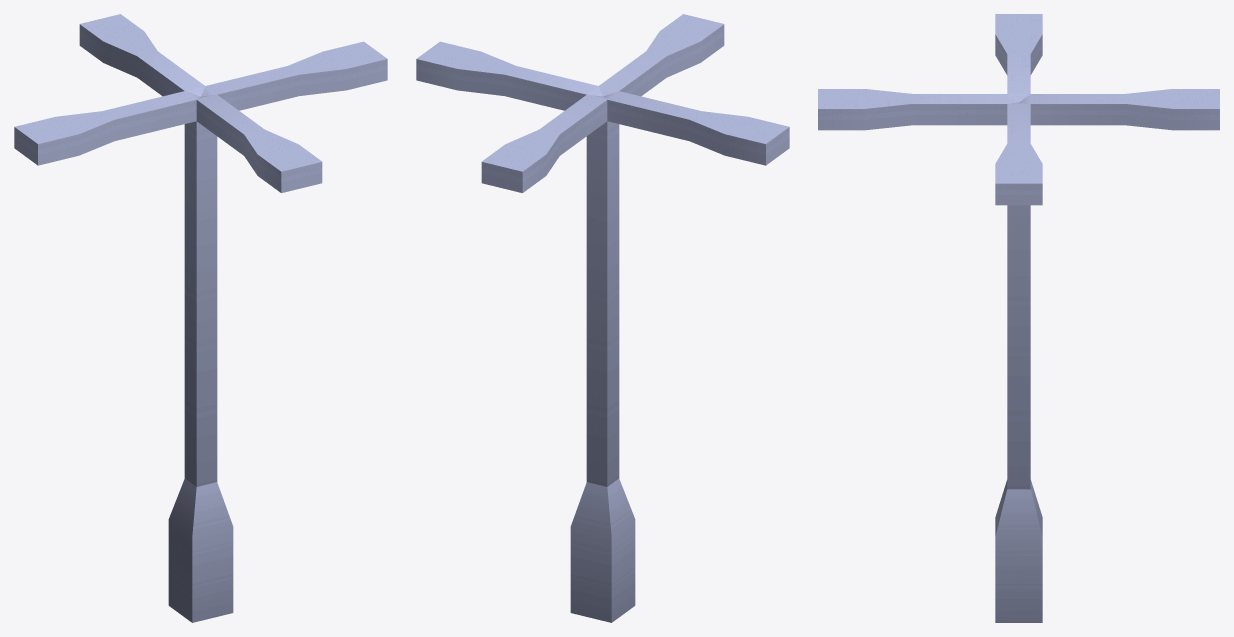
File: light-square-cross.glb
3 renders of one model, left to right at view 1: azimuth 30°, elevation 25°; view 2: azimuth 150°, elevation 25°; view 3: azimuth 270°, elevation 25°, orthographic.
Parts seen in each view (by area): view 1: light-square-cross; view 2: light-square-cross; view 3: light-square-cross.
Part boxes in pixels (x1,y1,x2,y2): light-square-cross: [14, 14, 387, 622]; light-square-cross: [416, 14, 789, 622]; light-square-cross: [818, 14, 1219, 622].
Bounding box in the file's own units: 0.425 × 0.6 × 0.425.
